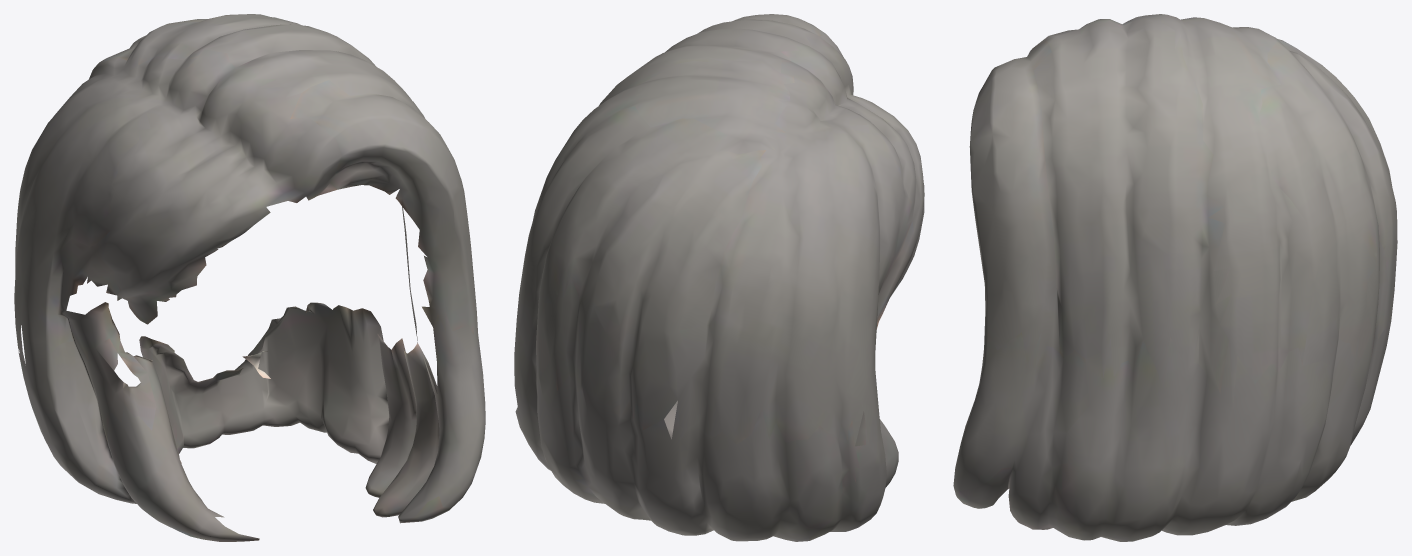
The model's file is hair-f-bob.glb.
3 renders of one model, left to right at view 1: azimuth 30°, elevation 25°; view 2: azimuth 150°, elevation 25°; view 3: azimuth 270°, elevation 25°, orthographic. The views are drawn at different scales.
Visible parts, largest first — view 1: hair-f-bob; view 2: hair-f-bob; view 3: hair-f-bob.
Boxes of the visible parts, box(x1,y1,x2,y2) form: hair-f-bob: box(14, 14, 485, 541); hair-f-bob: box(514, 14, 924, 541); hair-f-bob: box(953, 14, 1397, 541).
Bounding box in the file's own units: 1.1 × 1.3 × 1.15.
Materials: 1 (1 with a texture image).
